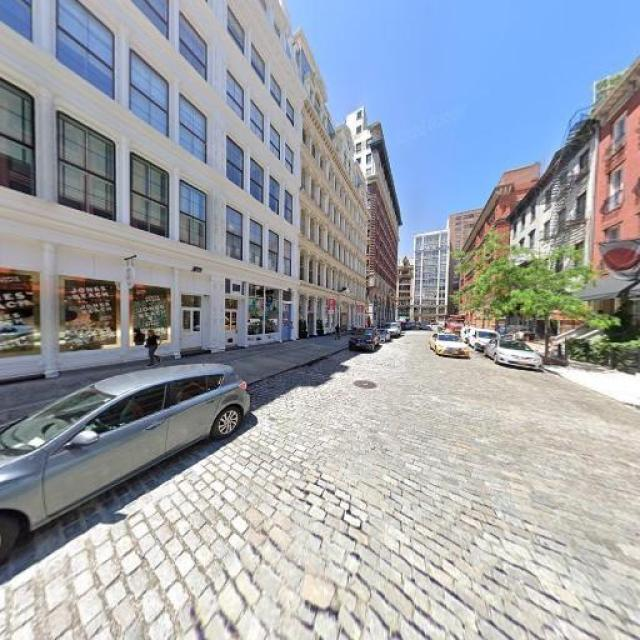Building: (1, 1, 297, 383), (299, 55, 367, 338), (595, 59, 640, 363)
